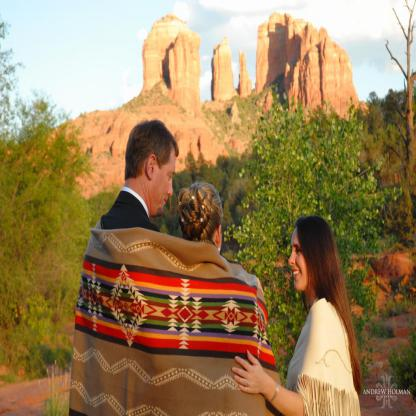face: (153, 154, 176, 217), (291, 233, 312, 292)
